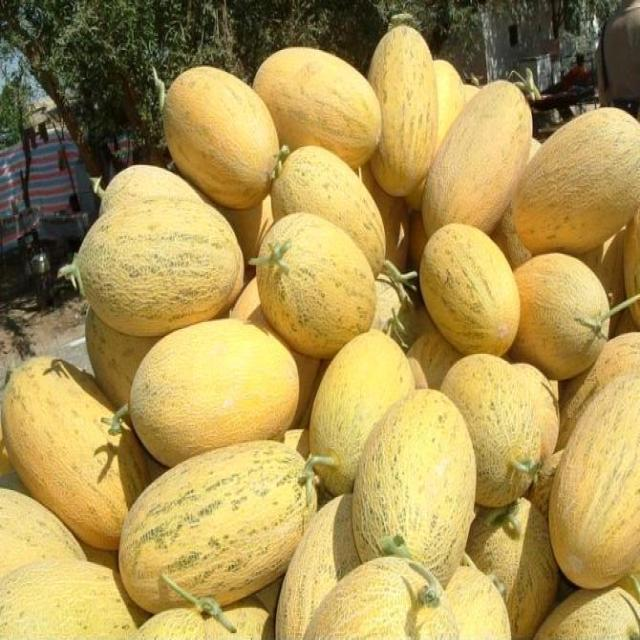Hami Melon: (119, 433, 320, 603), (0, 352, 145, 553), (133, 317, 300, 466), (77, 195, 242, 335), (353, 386, 474, 574), (544, 369, 640, 588), (514, 107, 640, 251), (420, 80, 532, 240), (255, 215, 376, 356), (162, 66, 278, 208), (310, 330, 413, 483), (443, 356, 548, 505), (255, 45, 381, 164), (273, 147, 387, 274), (420, 225, 523, 359), (364, 26, 440, 196)
